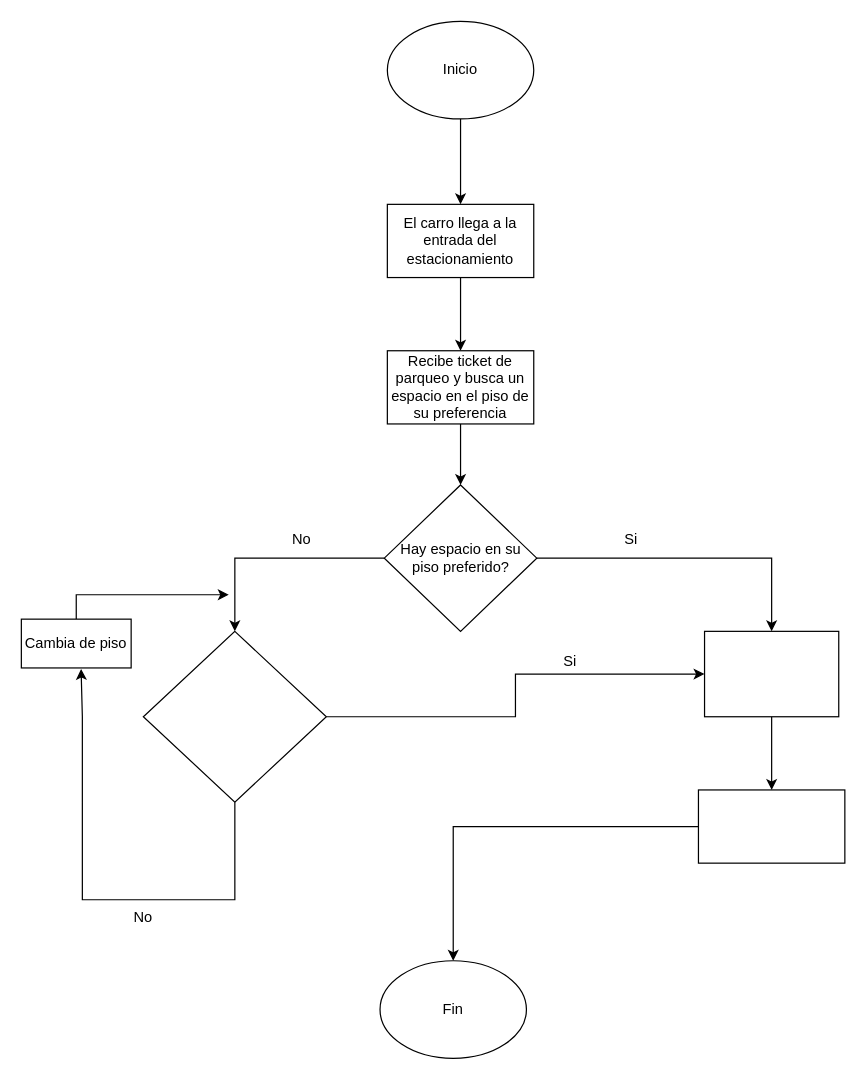
This 866x1080 diagram has some shape labels left out. The box of each missing label's shape, as (x1, y1, x2, y2) in pixels:
Espacios disponibles en el piso > 0: (142, 630, 326, 802)
Espera un tiempo y sale del parqueo. Liberando el espacio: (697, 789, 845, 863)
Estaciona el carro en cualquier espacio: (703, 630, 839, 717)
